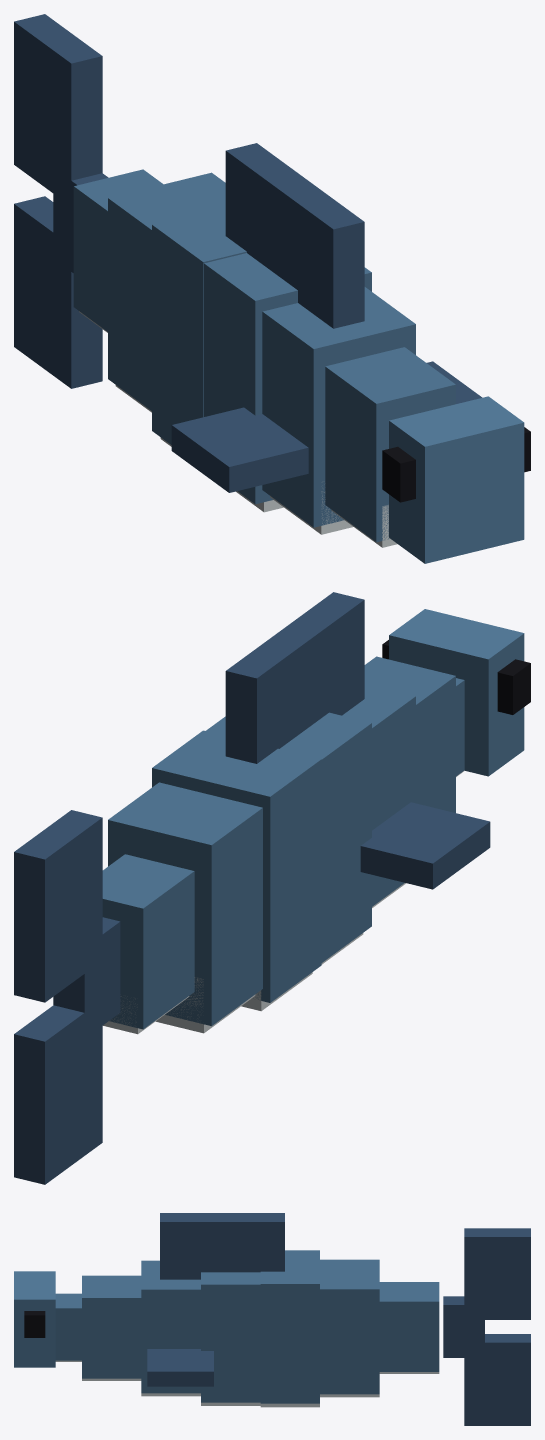
File: Mackerel.obj
3 views of the same model, one above another, from view 1: azimuth 30°, elevation 25°; view 2: azimuth 150°, elevation 25°; view 3: azimuth 270°, elevation 25° (orthographic). The views are drawn at different scales.
Visible parts, largest first — view 1: Mackerel; view 2: Mackerel; view 3: Mackerel.
Part boxes in pixels (x1=…): Mackerel: x1=14, y1=14, x2=530, y2=563; Mackerel: x1=14, y1=592, x2=530, y2=1184; Mackerel: x1=14, y1=1213, x2=530, y2=1425.
Size of the model in its own units: 0.42 by 0.54 by 1.24.
1 material, 1 textured.
